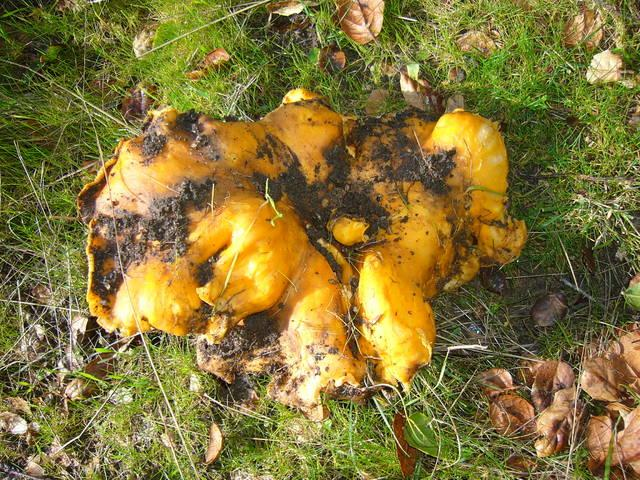Edible Mushroom: (75, 87, 528, 424)
